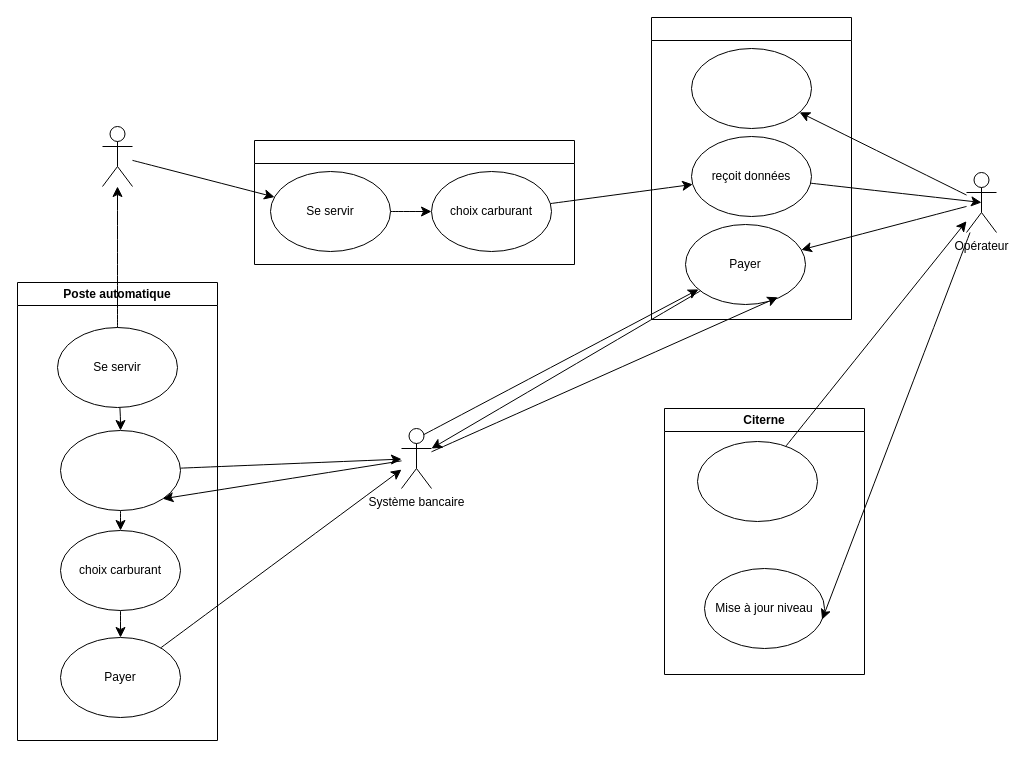
Image size: 1026x758. Some labels were removed from this diagram. Here are the shapes that lost their labels. From the top down, the box of each, then its label:
(690, 48, 812, 128): Ouvrir
(102, 126, 132, 186): Client
(650, 16, 852, 320): Station
(254, 140, 574, 264): Poste manuel
(60, 430, 180, 510): inserer carte
(696, 440, 818, 522): Limite de niveau
